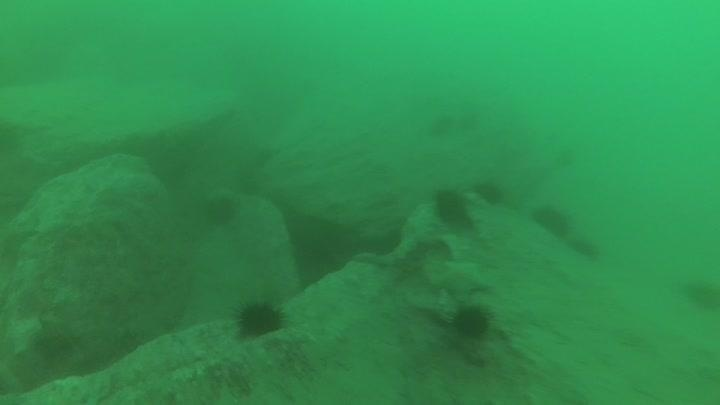echinus: (232, 298, 287, 340), (430, 186, 472, 229), (530, 202, 574, 240), (450, 303, 493, 341), (681, 275, 720, 314), (202, 192, 240, 228), (472, 177, 506, 207), (567, 233, 602, 262), (426, 111, 457, 140)
starfish: (428, 258, 493, 298)
